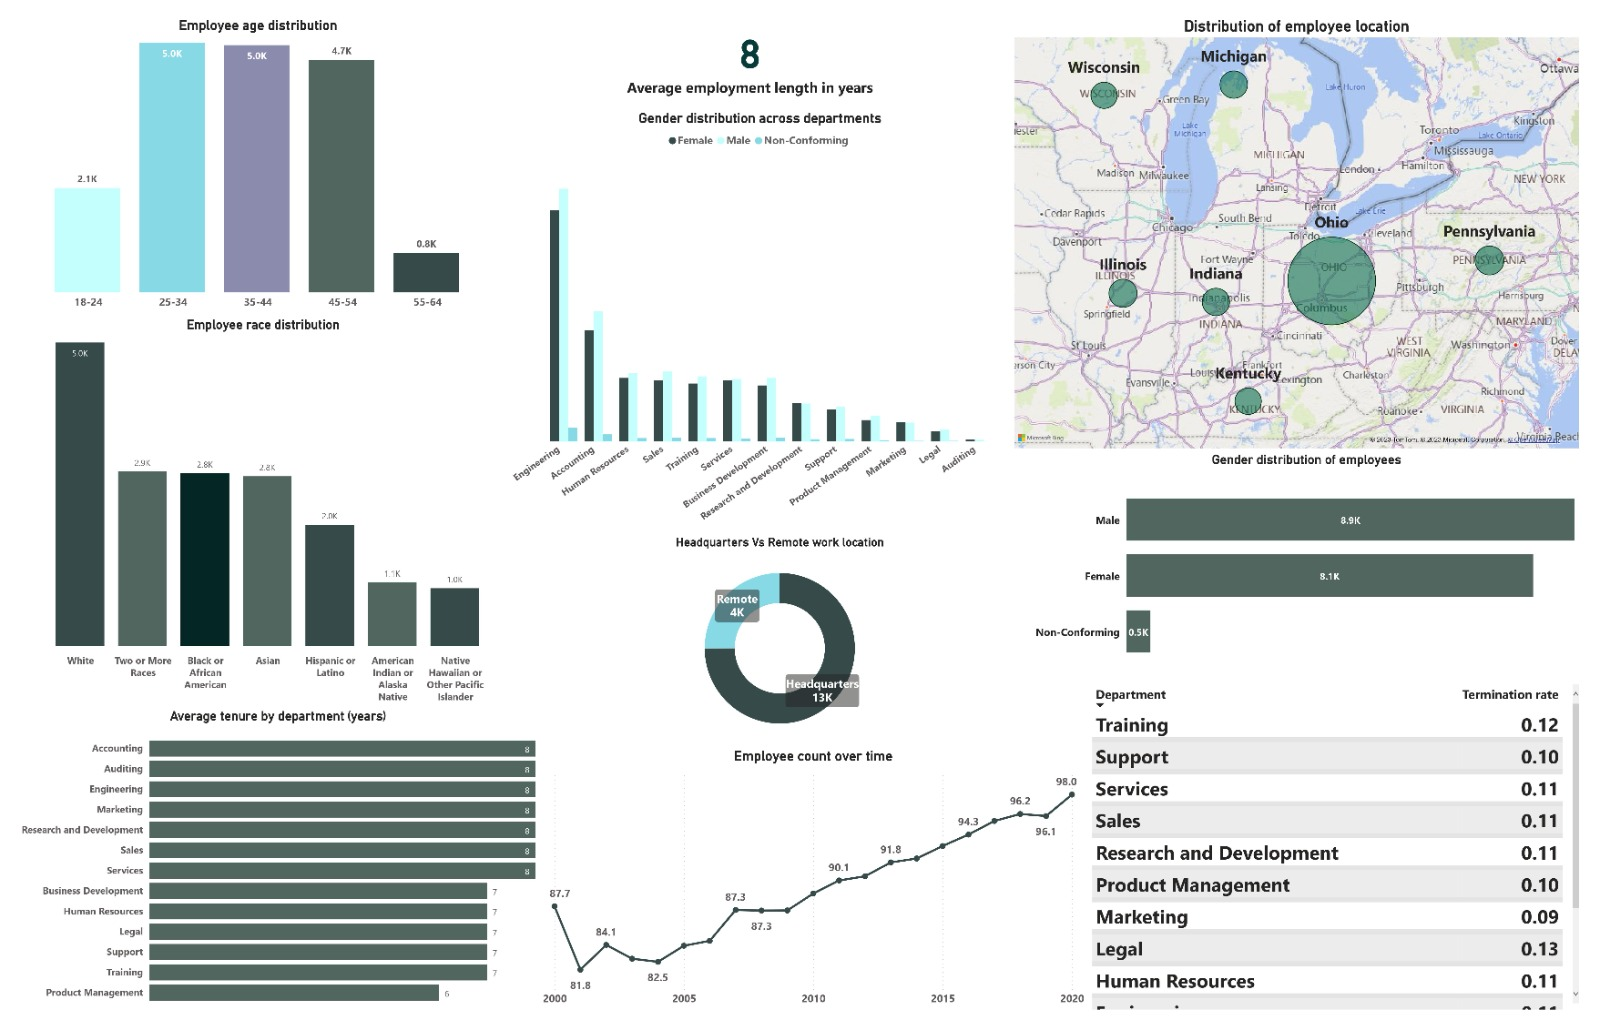

This screenshot's page, from the dashboard's own definition file:
{"tool":"powerbi","page":{"name":"Page 1","canvas":[2200,1400],"ordinal":0},"visuals":[{"type":"barChart","title":"Gender distribution of employees","fields":{"Category":["Question 1 gender count.gender"],"Y":["Sum(Question 1 gender count.gender_count)"]},"box":[1424.4,611.2,774.9,322.1],"z":0},{"type":"columnChart","title":"Employee race distribution","fields":{"Category":["Question 2 race count.race"],"Y":["Sum(Question 2 race count.race_count)"]},"box":[0,421.4,691.3,550.2],"z":1000},{"type":"columnChart","title":"Employee age distribution","fields":{"Category":["Question 3 age group.age_group"],"Y":["Sum(Question 3 age group.age_count)"]},"box":[0,0,677.4,421.4],"z":2000},{"type":"card","fields":{"Values":["Sum(Question 5 avg_length_employment.avg_length_employment)"]},"box":[691.3,0,677.4,116.7],"z":3000},{"type":"clusteredColumnChart","title":"Gender distribution across departments","fields":{"Category":["Question 6 gender departments.department"],"Series":["Question 6 gender departments.gender"],"Y":["Sum(Question 6 gender departments.count)"]},"box":[691.3,130.6,705.2,597.3],"z":4000},{"type":"map","title":"Distribution of employee location","fields":{"Category":["Question 9 location distributioncsv.location_state"],"Size":["Sum(Question 9 location distributioncsv.employee_count)"]},"box":[1396.5,0,802.7,611.2],"z":5000},{"type":"barChart","title":"Average tenure by department (years)","fields":{"Category":["Question 11 avg_tenure per department.department"],"Y":["Sum(Question 11 avg_tenure per department.avg_tenure)"]},"box":[0,971.6,733.1,428.4],"z":6000},{"type":"tableEx","title":"Turnover rate per department","fields":{"Values":["Question 8  turnover rate.department","Question 8  turnover rate.termination_rate"]},"box":[1504.5,933.3,694.8,466.7],"z":7000},{"type":"lineChart","title":"Employee count over time","fields":{"Category":["Question 10 employee count change.year"],"Y":["Sum(Question 10 employee count change.net_change_percent)"]},"box":[733.1,1027.4,771.4,372.6],"z":8000},{"type":"donutChart","title":"Headquarters Vs Remote work location","fields":{"Category":["Question 4 location count.location"],"Y":["Sum(Question 4 location count.location_count)"]},"box":[733.1,727.9,677.4,299.5],"z":9000}]}

Visuals, with their boxes in screenshot pixels (x1, y1, x2, y2), scaled from the page's 2200x1400 canvas onto the 1600x1030 screenshot:
"Gender distribution of employees" barChart: bbox(1036, 450, 1599, 687)
"Employee race distribution" columnChart: bbox(0, 310, 503, 715)
"Employee age distribution" columnChart: bbox(0, 0, 493, 310)
card - Sum(Question 5 avg_length_employment.avg_length_employment): bbox(503, 0, 995, 86)
"Gender distribution across departments" clusteredColumnChart: bbox(503, 96, 1016, 536)
"Distribution of employee location" map: bbox(1016, 0, 1599, 450)
"Average tenure by department (years)" barChart: bbox(0, 715, 533, 1029)
"Turnover rate per department" tableEx: bbox(1094, 687, 1599, 1029)
"Employee count over time" lineChart: bbox(533, 756, 1094, 1029)
"Headquarters Vs Remote work location" donutChart: bbox(533, 536, 1026, 756)
